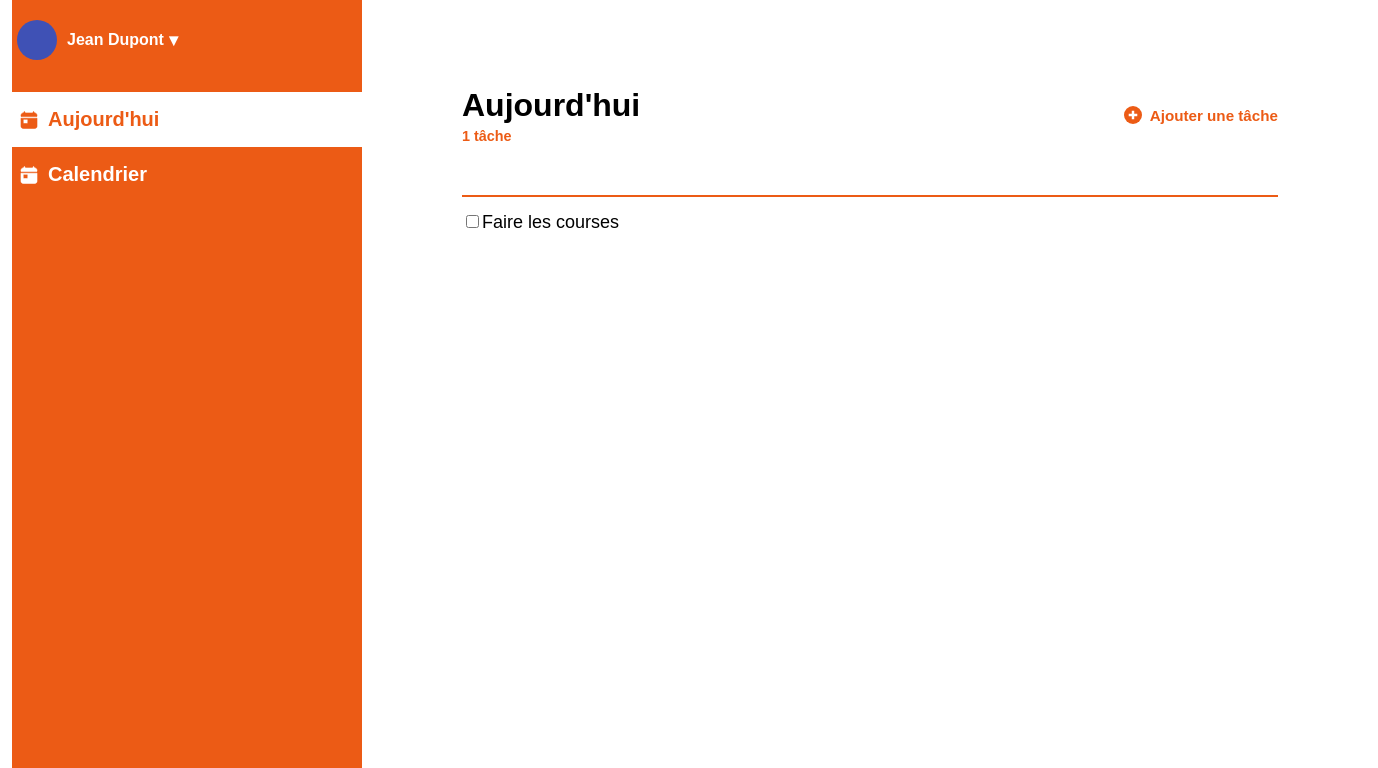
Test: Suppression de tâche › supprime une tâche
This screenshot has width=1378, height=768.
Check: the text "Faire les courses" is shown, box [482, 212, 619, 232]
Click the checkbox with test id "delete-task": (473, 222) [466, 215, 479, 228]
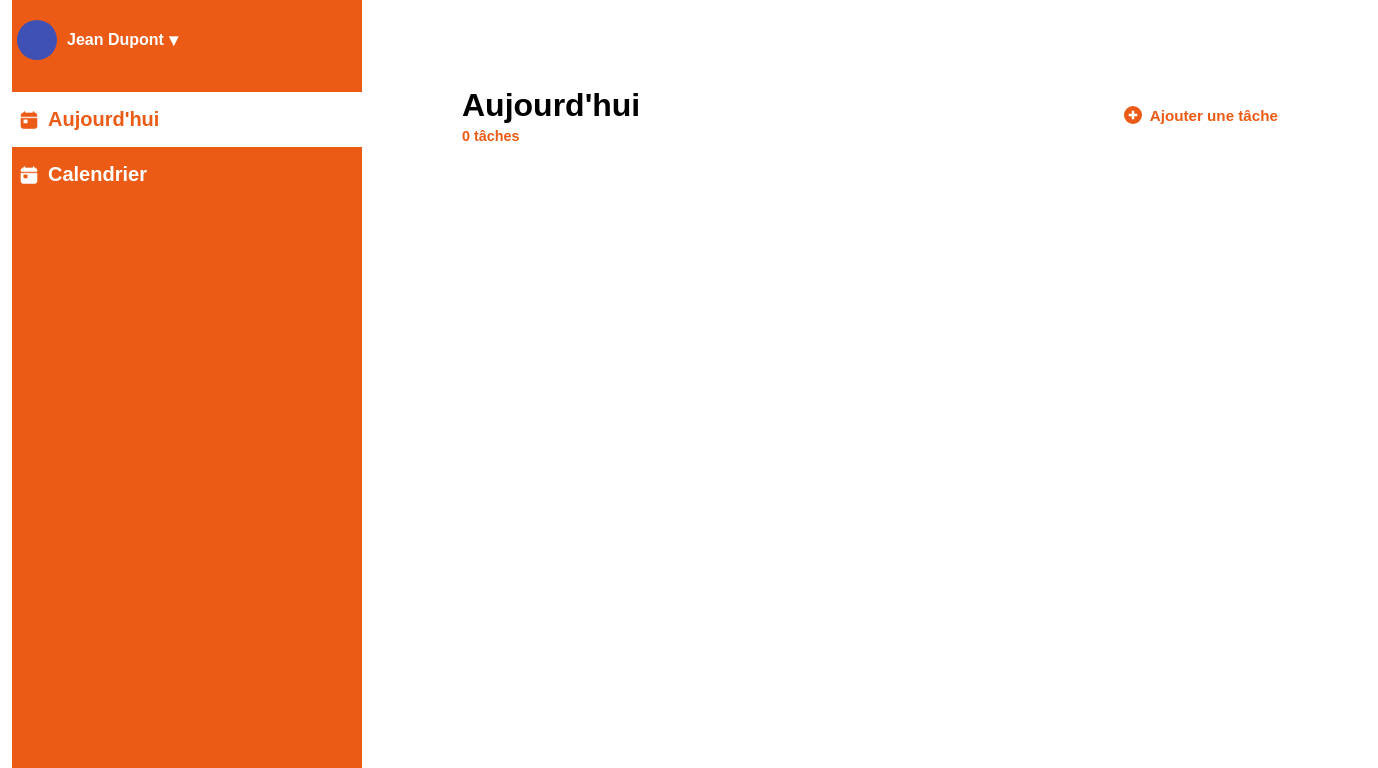
Check: the text "Faire les courses" is gone
